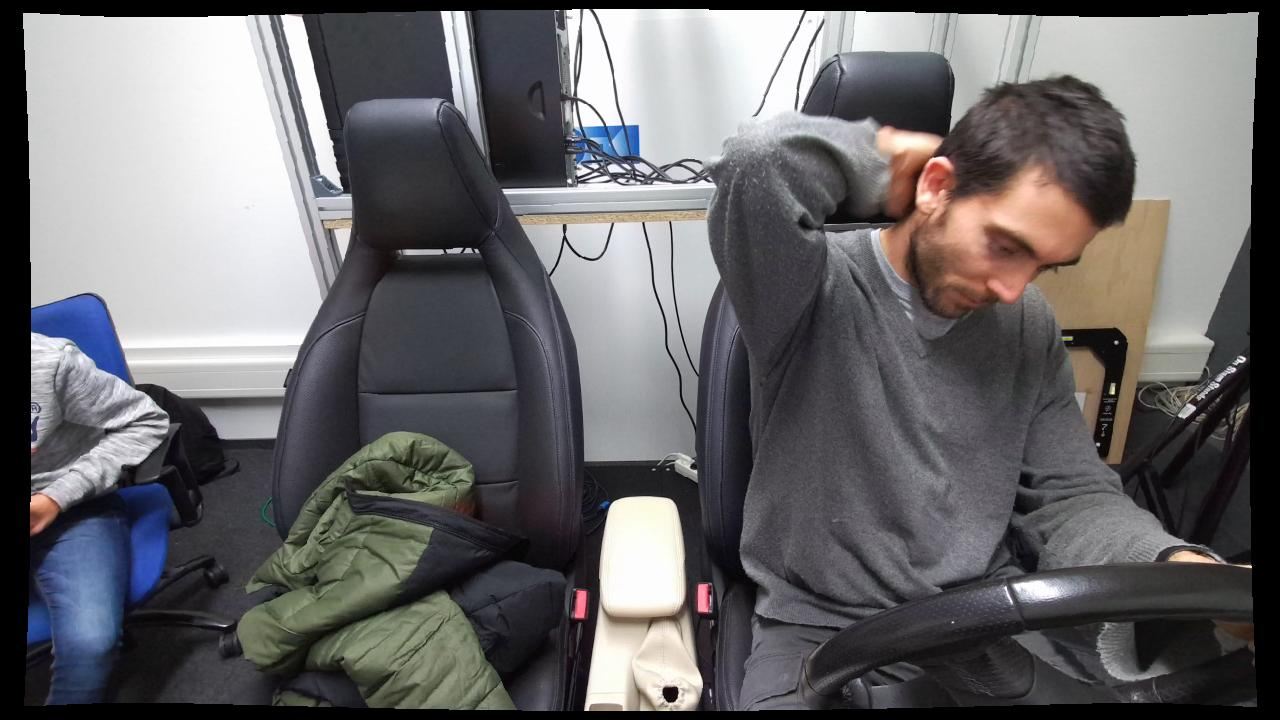Distracted: (710, 72, 1146, 707)
